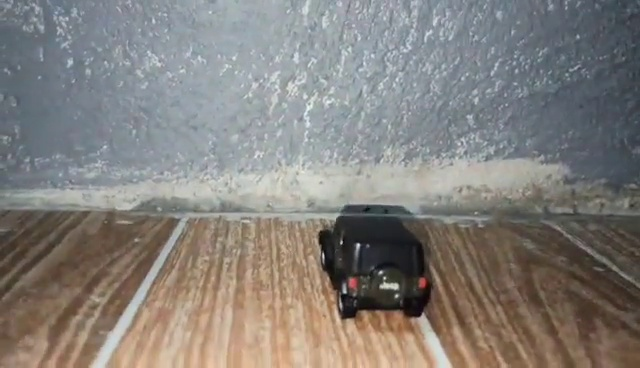car: (315, 208, 435, 321)
